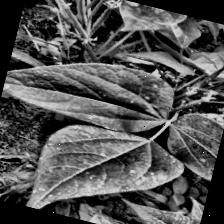Bean Rust: (19, 110, 186, 224), (0, 38, 179, 138), (156, 102, 224, 203)
